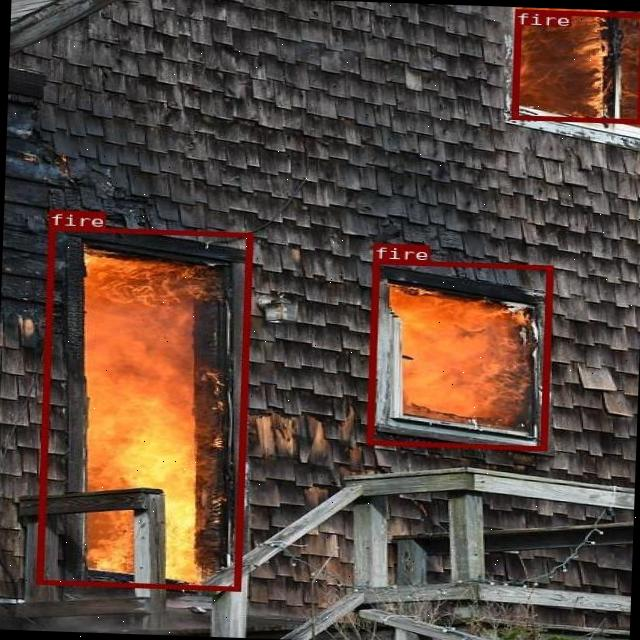fire: (35, 225, 251, 590), (366, 258, 551, 450), (510, 7, 640, 123)
